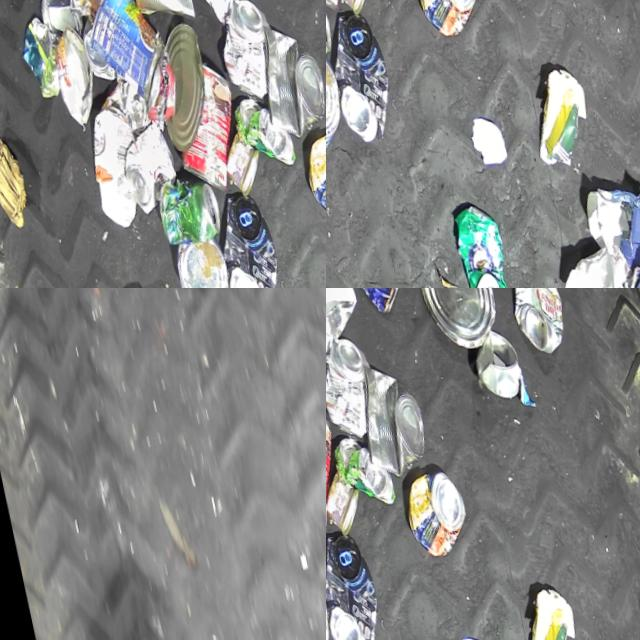can: (159, 50, 250, 194), (348, 347, 432, 477), (76, 0, 175, 108), (326, 1, 399, 143), (144, 13, 218, 151), (248, 8, 326, 137), (206, 182, 288, 288), (397, 456, 474, 556), (326, 521, 388, 640), (209, 0, 282, 99), (114, 112, 183, 215), (446, 191, 514, 288), (326, 325, 382, 438), (47, 19, 102, 128), (411, 288, 505, 351), (152, 165, 224, 247), (230, 84, 296, 167), (330, 423, 396, 506), (467, 314, 525, 393), (501, 288, 572, 351), (168, 230, 236, 288), (217, 122, 266, 194), (326, 388, 350, 533), (326, 460, 366, 532), (297, 117, 326, 216), (408, 0, 484, 35), (78, 12, 115, 81), (326, 49, 347, 150), (33, 0, 84, 40), (119, 0, 196, 25), (338, 288, 406, 316), (432, 274, 472, 288)
